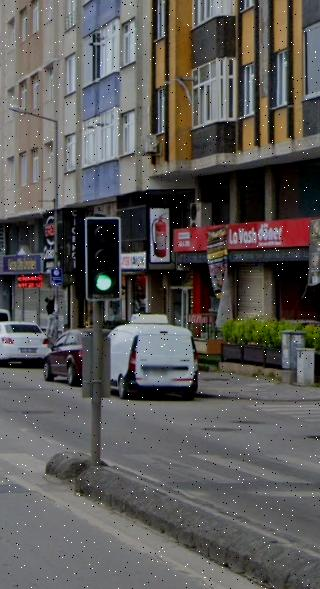greenlight: (84, 221, 121, 303)
